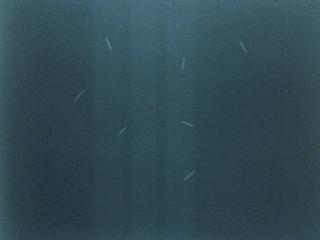scratch: (228, 33, 260, 77), (67, 83, 89, 110), (182, 164, 201, 183), (115, 122, 129, 137), (238, 37, 249, 55), (179, 119, 196, 130), (103, 35, 113, 52), (180, 56, 186, 71)
